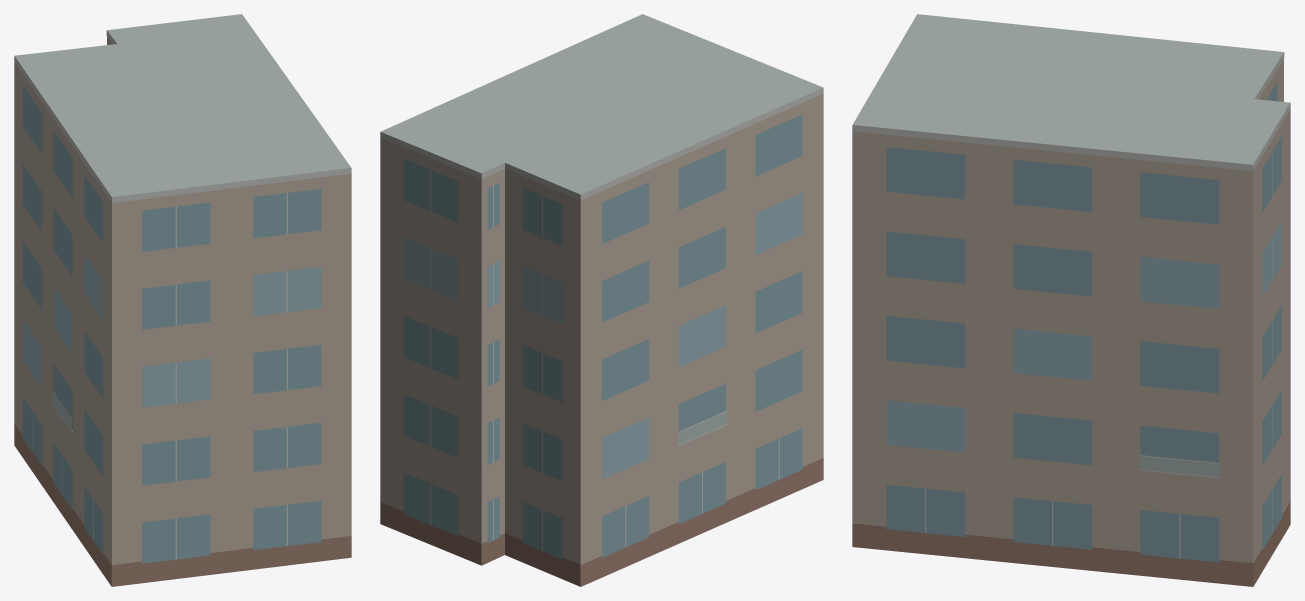
Rendered from survey-upis-32885885.glb.
3 views of the same model, side by side, from view 1: azimuth 30°, elevation 25°; view 2: azimuth 150°, elevation 25°; view 3: azimuth 270°, elevation 25° (orthographic). The views are drawn at different scales.
Visible parts, largest first — view 1: survey-upis-32885885.tmp; view 2: survey-upis-32885885.tmp; view 3: survey-upis-32885885.tmp.
Part boxes in pixels (bbox=[...]): survey-upis-32885885.tmp: bbox=[14, 14, 351, 586]; survey-upis-32885885.tmp: bbox=[380, 14, 823, 586]; survey-upis-32885885.tmp: bbox=[852, 14, 1290, 586].
Size of the model in its own units: 12.5 by 16.3 by 15.34.
